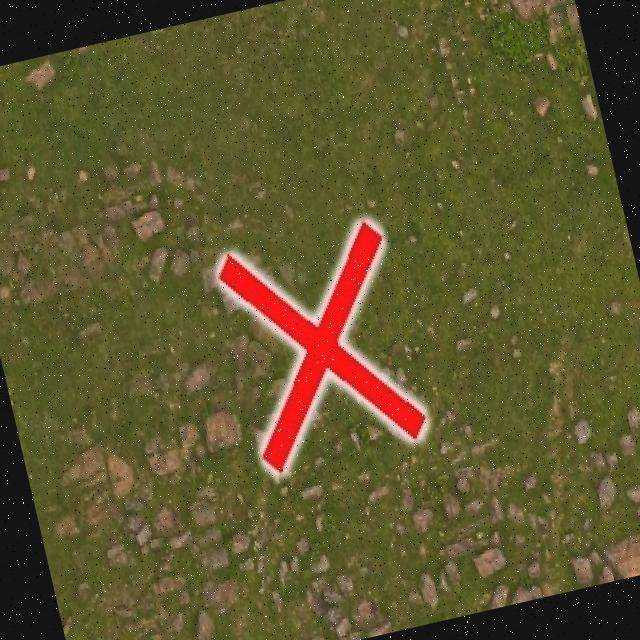x_marker: (214, 218, 428, 474)
